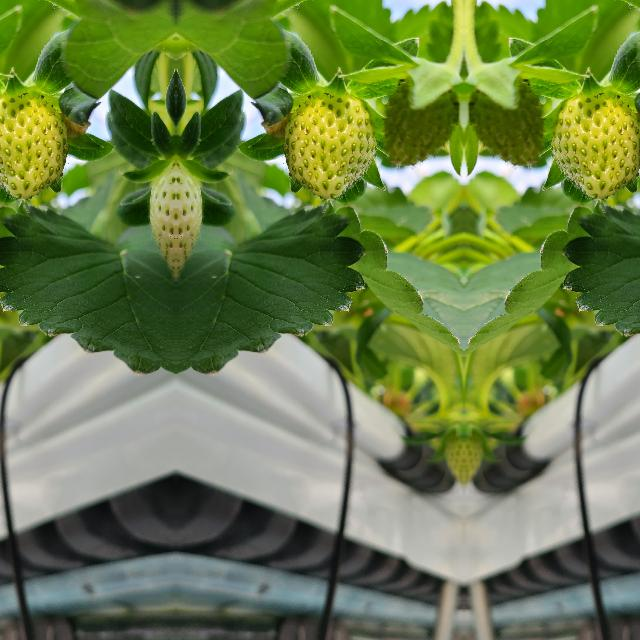Health_25: (282, 92, 376, 202), (549, 92, 640, 202), (380, 72, 462, 174), (464, 72, 546, 174), (0, 92, 68, 202)
